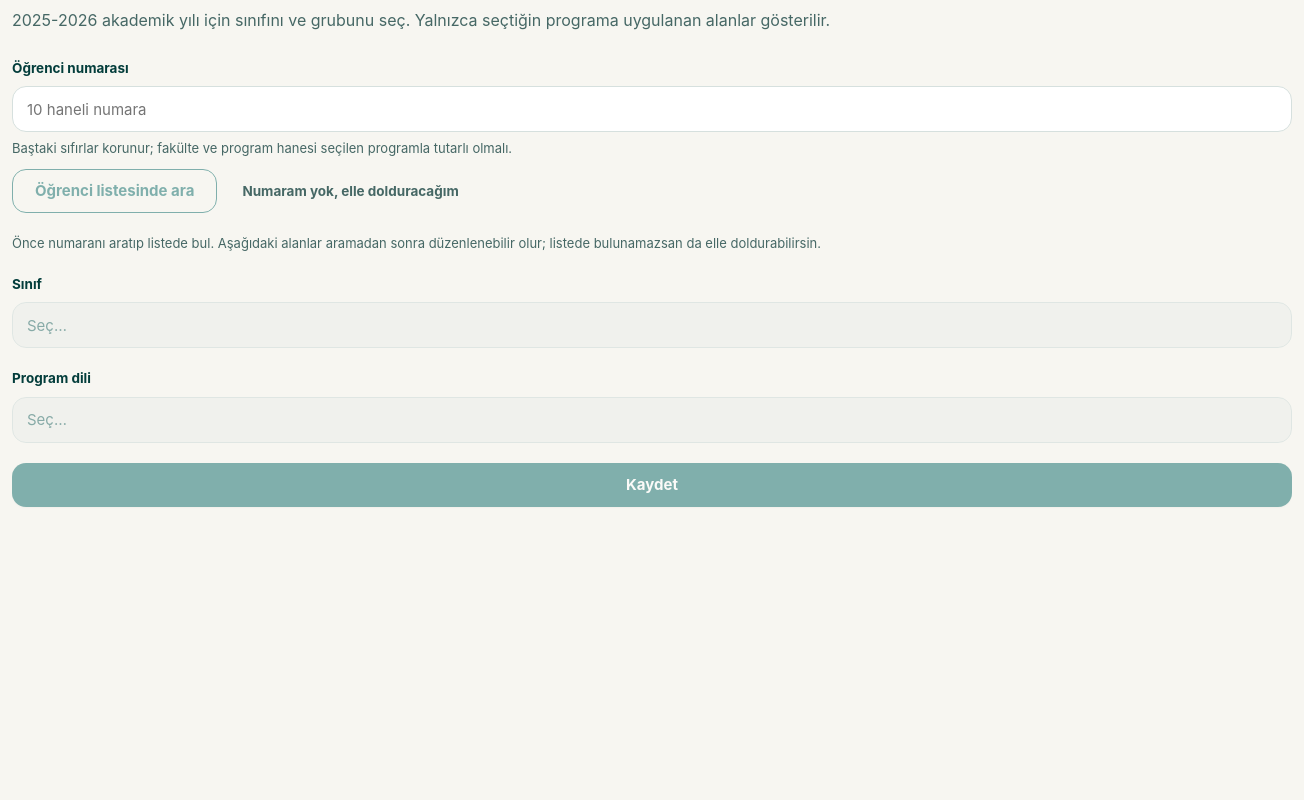
Scenario: AcademicProfileForm roster lookup › keeps the fields below the number disabled until a lookup has run
Expected: the dropdown labelled "Sınıf" is disabled, [12,302,1292,348]
Expected: the dropdown labelled "Program dili" is disabled, [12,397,1292,443]
Type "0101250001" into the field labelled "Öğrenci numarası".
click(652, 109); type("0101250001")  # box [12,86,1292,132]
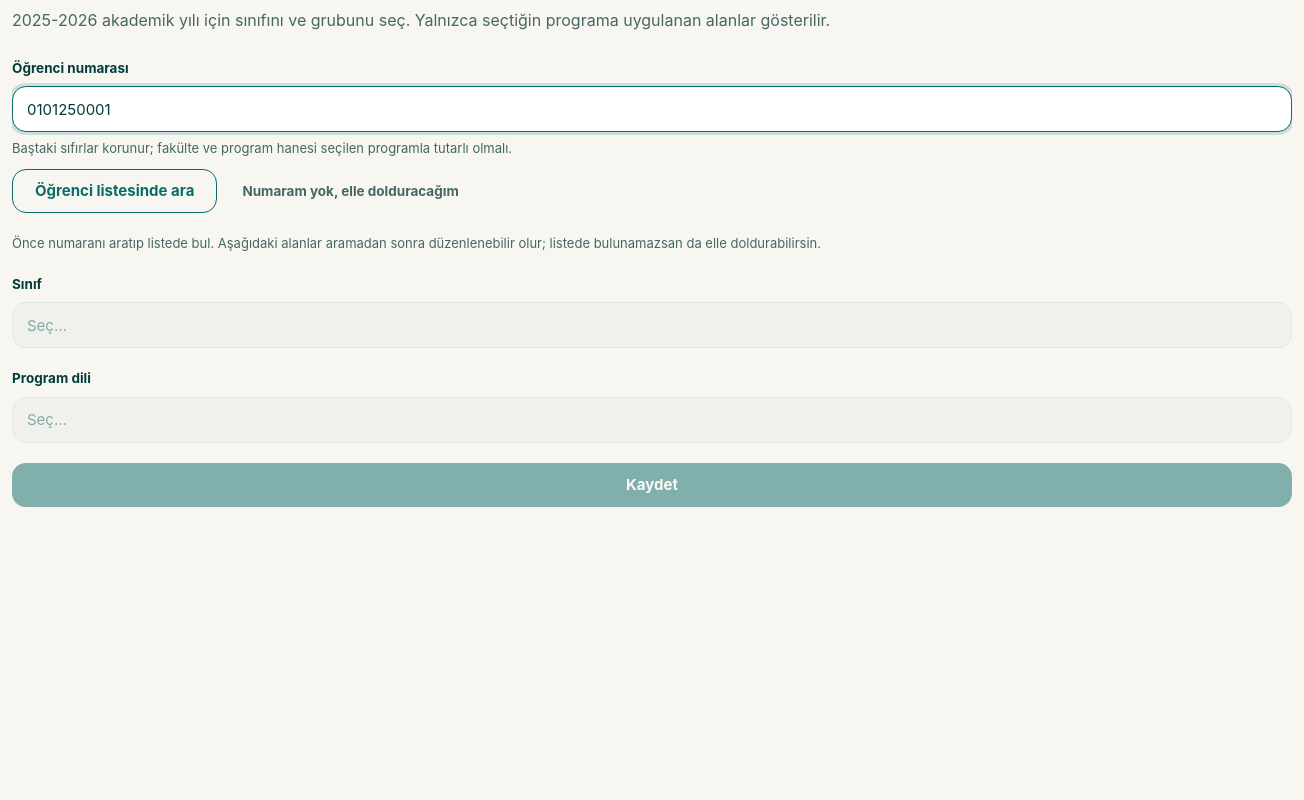
Click the button "Öğrenci listesinde ara".
click(115, 191)  # box [12,169,217,213]
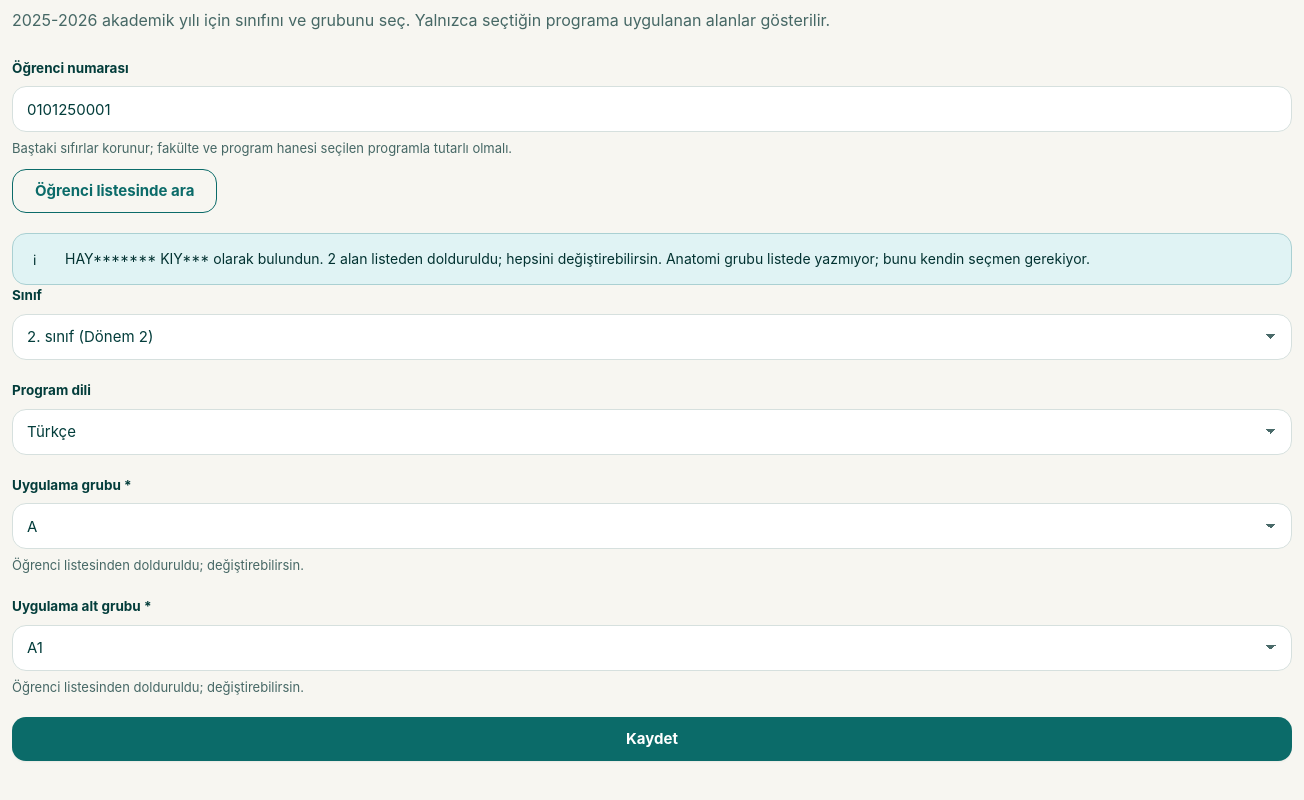
Now the dropdown labelled "Sınıf" is enabled, box [12,314,1292,360]
